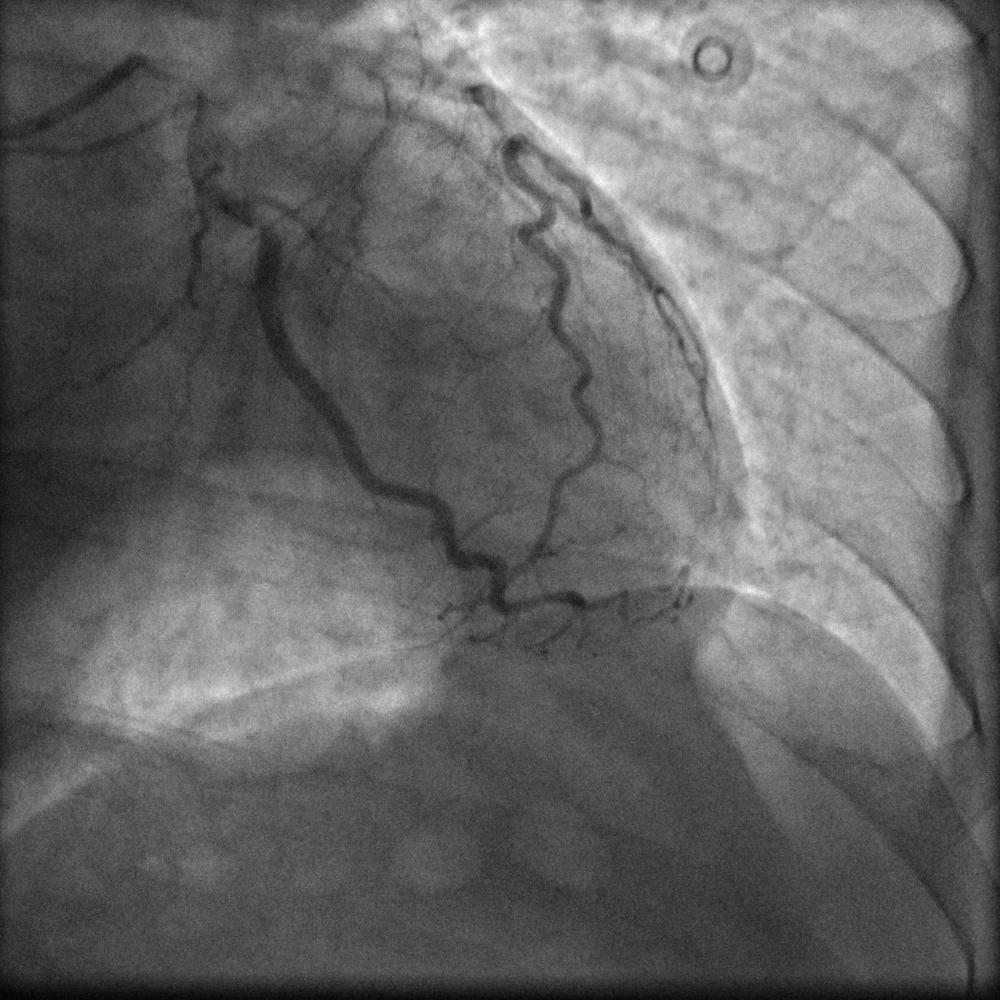Stenosis: (248, 203, 275, 245)
